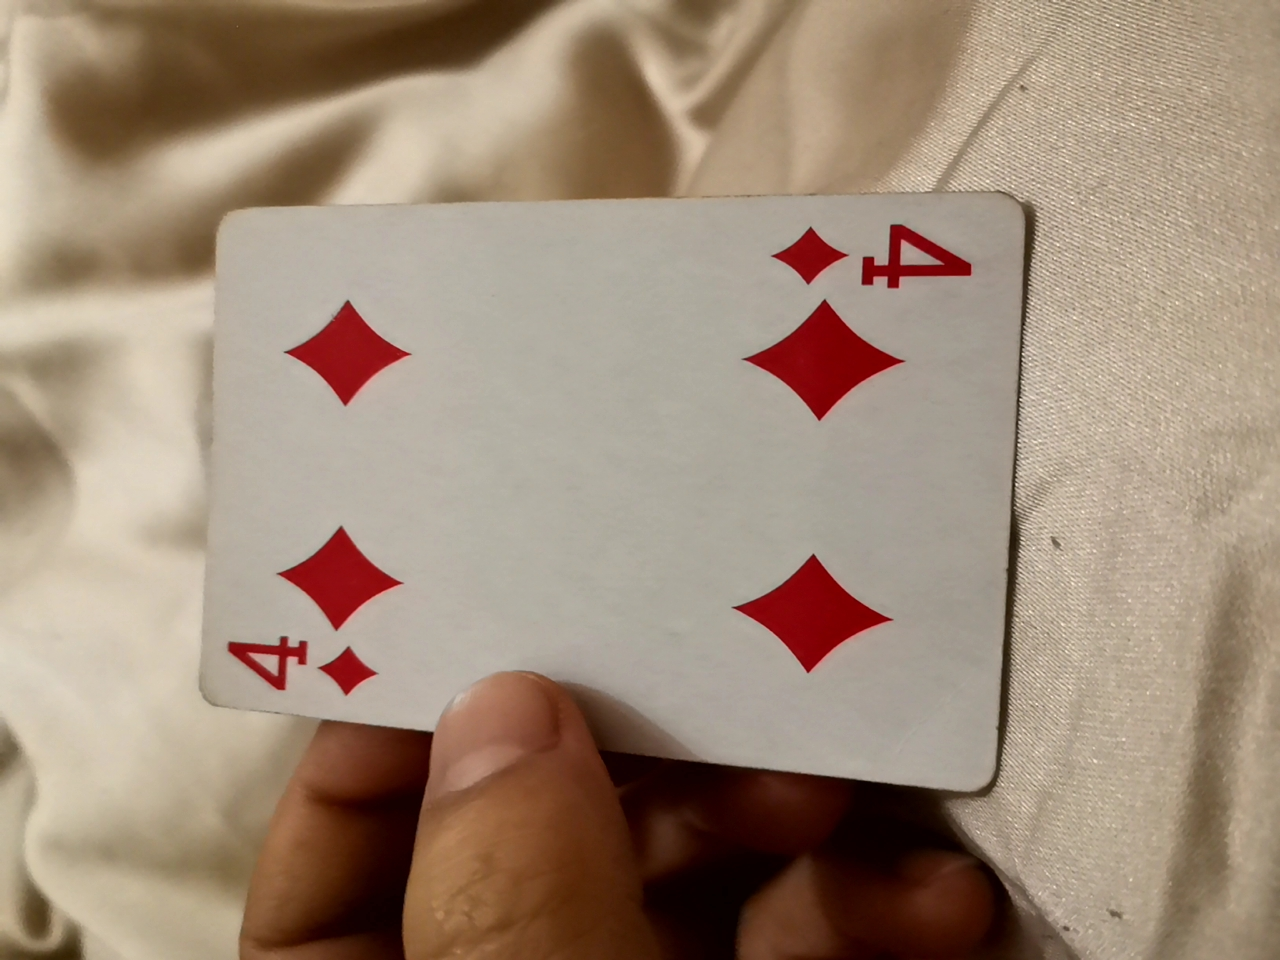fk 4: (205, 187, 1030, 792)
